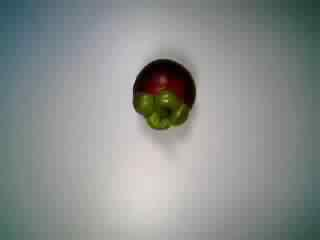mangosteen: (123, 55, 201, 131)
